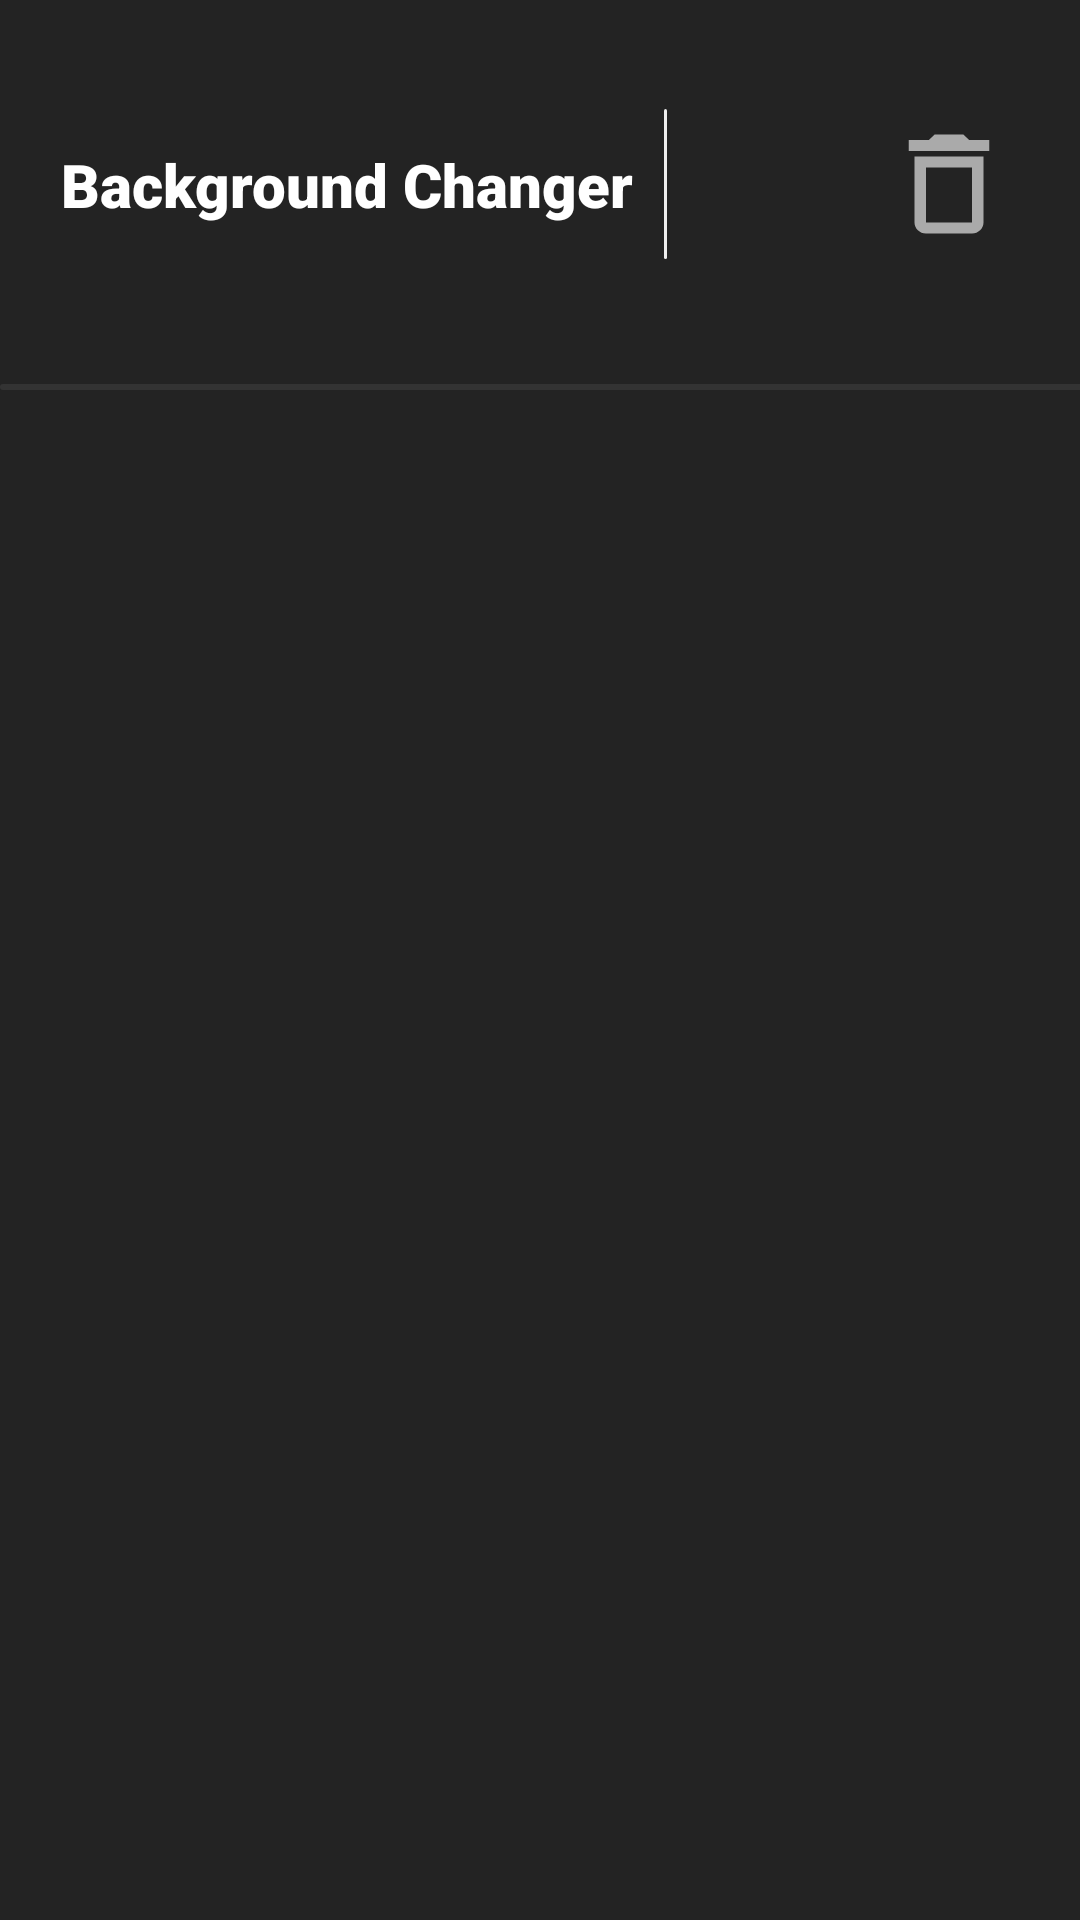

Named icons in this screenshot (1080 x 1920) and their bounding boxes, [x1,y1,x2,y2]:
delete: [908,134,990,234]
